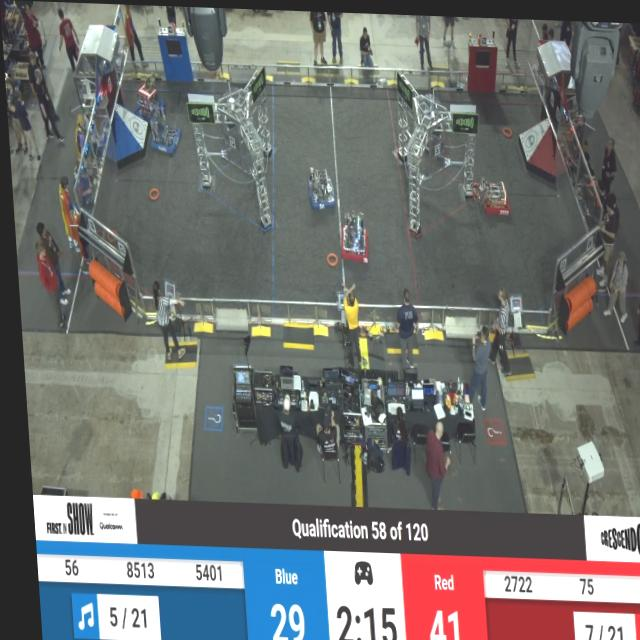Robot: (147, 103, 182, 156), (338, 204, 369, 262), (471, 170, 510, 216), (305, 161, 336, 212), (132, 76, 165, 119)
